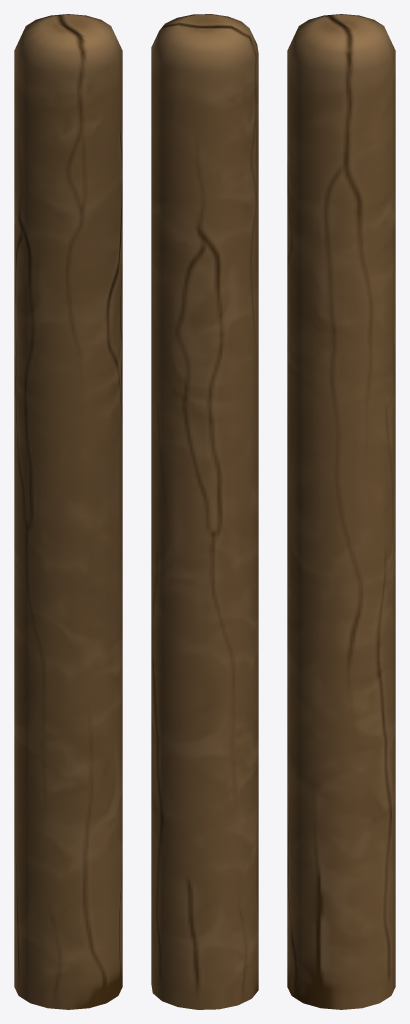
File: MarshPole_a01.fbx
3 renders of one model, left to right at view 1: azimuth 90°, elevation 25°; view 2: azimuth 150°, elevation 25°; view 3: azimuth 270°, elevation 25°, orthographic.
Visible parts, largest first — view 1: Pole_a01; view 2: Pole_a01; view 3: Pole_a01.
Part boxes in pixels (bbox=[...]): Pole_a01: bbox=[14, 14, 122, 1009]; Pole_a01: bbox=[151, 14, 258, 1009]; Pole_a01: bbox=[287, 14, 395, 1009].
Bounding box in the file's own units: 30.49 × 299 × 30.49.
